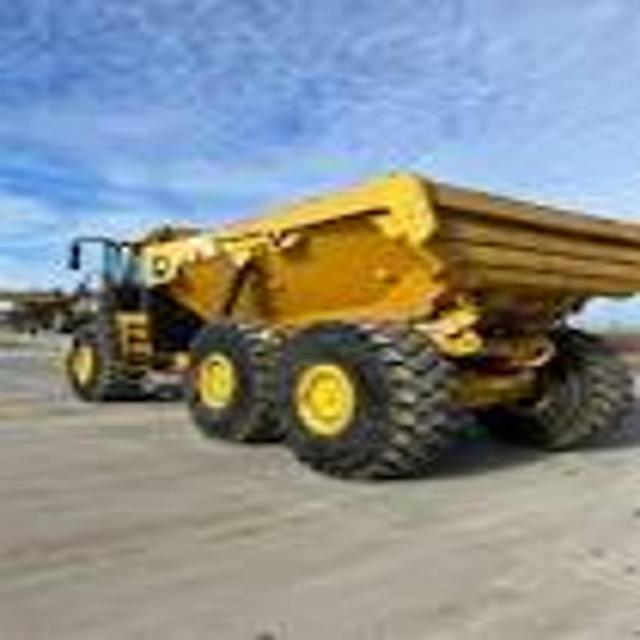dump_truck: (33, 159, 640, 480)
